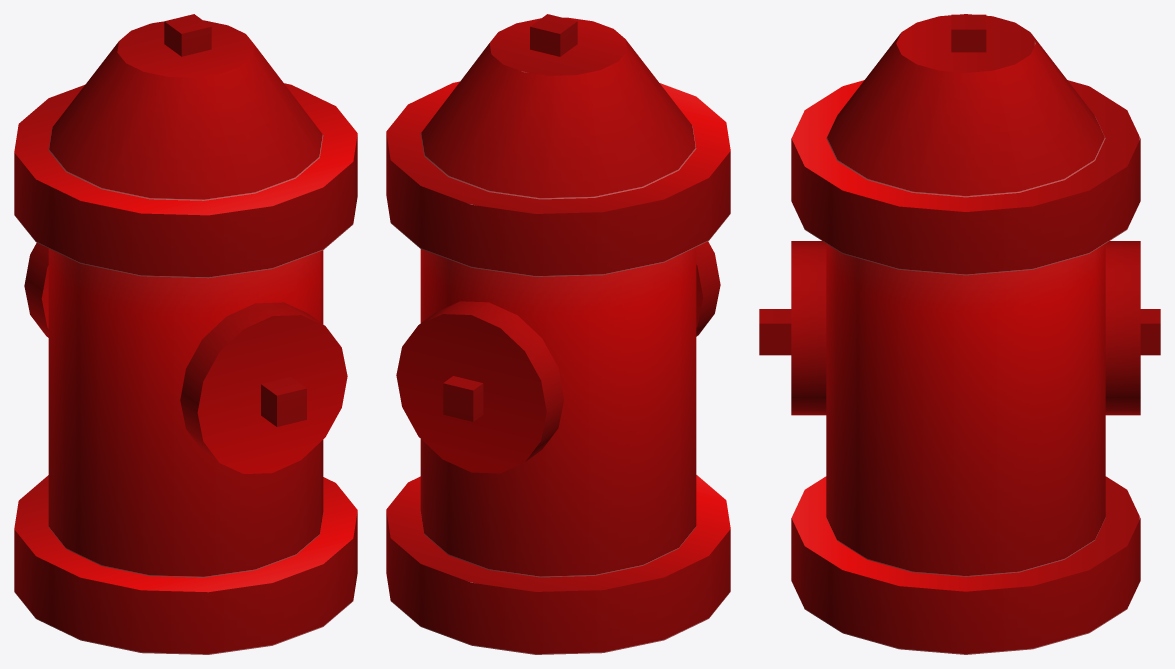
Rendered from hydrant.fbx.
3 views of the same model, side by side, from view 1: azimuth 30°, elevation 25°; view 2: azimuth 150°, elevation 25°; view 3: azimuth 270°, elevation 25° (orthographic).
Visible parts, largest first — view 1: hydrant_body, hydrant_cap, hydrant_rim, hydrant_base, hydrant_connector__1_, bolt__1_, hydrant_connector, bolt__2_; view 2: hydrant_body, hydrant_cap, hydrant_rim, hydrant_base, hydrant_connector, hydrant_connector__1_, bolt__2_, bolt; view 3: hydrant_body, hydrant_cap, hydrant_rim, hydrant_base, hydrant_connector, hydrant_connector__1_, bolt__1_, bolt__2_, bolt.
Boxes of the visible parts, x1,y1,x2,y2 form: hydrant_body: [48, 248, 323, 577]; hydrant_cap: [48, 20, 323, 200]; hydrant_rim: [14, 83, 357, 278]; hydrant_base: [14, 475, 357, 654]; hydrant_connector__1_: [180, 302, 347, 473]; bolt__1_: [261, 377, 306, 426]; hydrant_connector: [24, 243, 48, 337]; bolt__2_: [164, 14, 211, 56]; hydrant_body: [420, 247, 696, 577]; hydrant_cap: [420, 17, 696, 199]; hydrant_rim: [386, 81, 730, 276]; hydrant_base: [386, 475, 730, 654]; hydrant_connector: [396, 301, 564, 473]; hydrant_connector__1_: [696, 241, 720, 336]; bolt__2_: [530, 14, 577, 56]; bolt: [443, 376, 483, 421]; hydrant_body: [826, 244, 1105, 576]; hydrant_cap: [826, 14, 1105, 197]; hydrant_rim: [791, 80, 1140, 275]; hydrant_base: [791, 476, 1140, 654]; hydrant_connector: [1105, 241, 1140, 415]; hydrant_connector__1_: [791, 241, 826, 415]; bolt__1_: [759, 309, 791, 355]; bolt__2_: [951, 14, 986, 52]; bolt: [1140, 309, 1160, 355].
Size of the model in its own units: 50 by 88.63 by 57.5.
